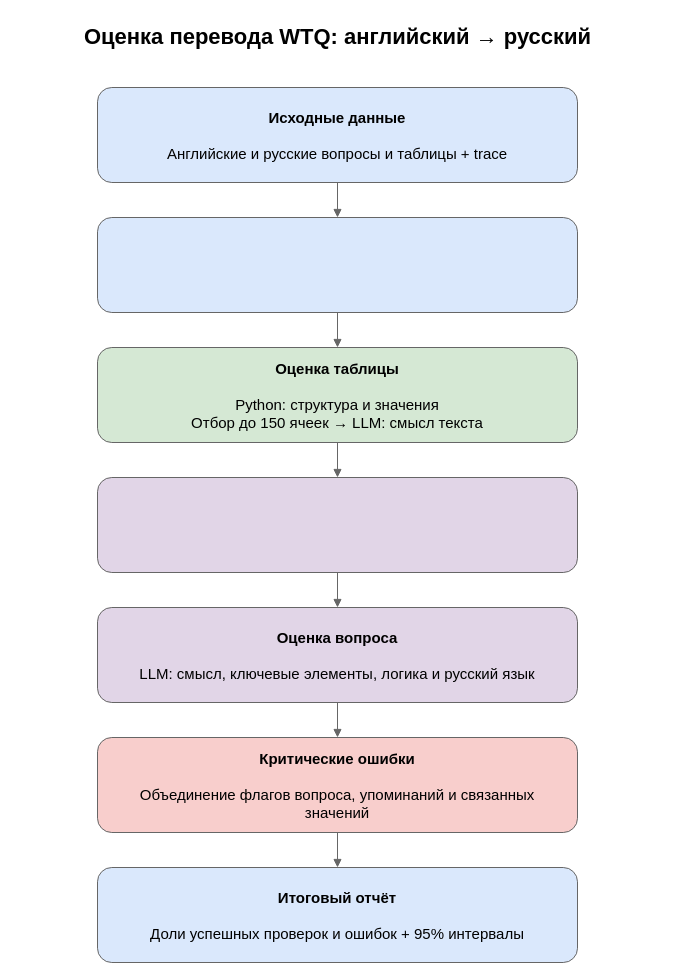
Image size: 674x980. Some labels were removed from this diagram. The shapes that lost their labels are listed below. From the top down, each one's centre as x and y in pixels, then its label:
(x=337, y=264): Выборка примеров Отбор вопросов по seed или списку ID
(x=337, y=524): Оценка упоминаний Сохранение масок и правильность связи вопроса с таблицей
